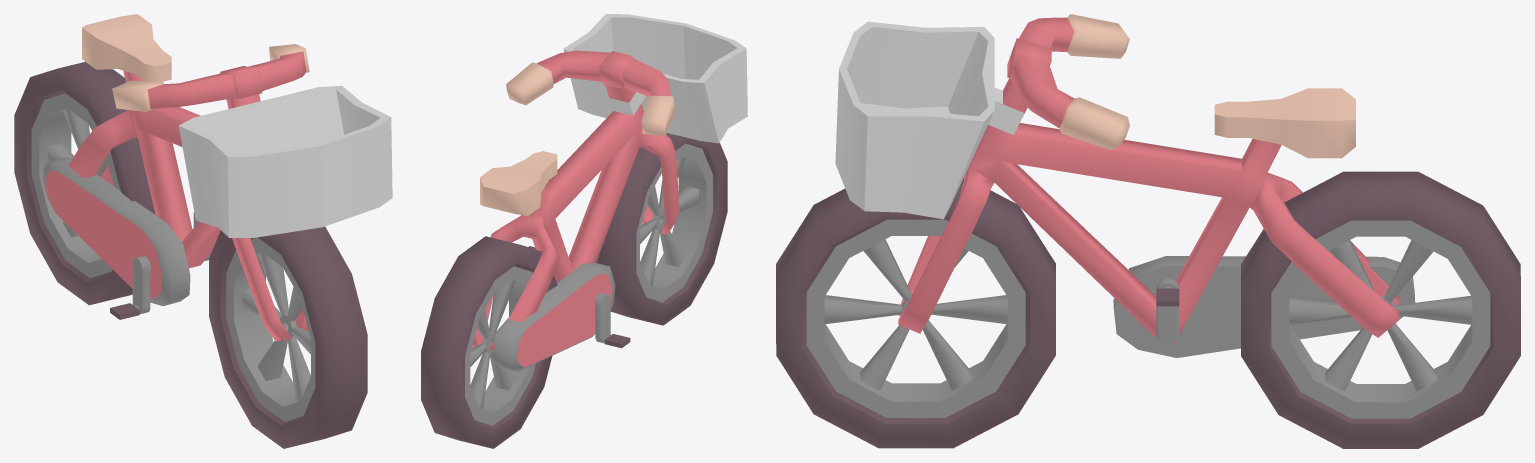
Rendered from low-poly_bike.glb.
3 views of the same model, side by side, from view 1: azimuth 30°, elevation 25°; view 2: azimuth 150°, elevation 25°; view 3: azimuth 270°, elevation 25° (orthographic). The views are drawn at different scales.
Visible parts, largest first — view 1: Frame, Wheel front, Wheel back, Stuur, Pedals; view 2: Frame, Wheel back, Wheel front, Stuur, Pedals; view 3: Frame, Wheel back, Wheel front, Stuur, Pedals.
Part boxes in pixels (left/top/right/bottom): Frame: left=42, top=14, right=392, bottom=341; Wheel front: left=209, top=226, right=367, bottom=448; Wheel back: left=14, top=61, right=155, bottom=305; Stuur: left=112, top=44, right=309, bottom=111; Pedals: left=110, top=212, right=210, bottom=319; Frame: left=472, top=14, right=747, bottom=371; Wheel back: left=421, top=236, right=557, bottom=448; Wheel front: left=596, top=133, right=727, bottom=325; Stuur: left=506, top=50, right=676, bottom=135; Pedals: left=528, top=246, right=630, bottom=348; Frame: left=835, top=21, right=1415, bottom=357; Wheel back: left=1241, top=171, right=1520, bottom=448; Wheel front: left=776, top=177, right=1055, bottom=448; Stuur: left=1007, top=14, right=1129, bottom=150; Pedals: left=1156, top=279, right=1179, bottom=344.
Size of the model in its own units: 0.599 by 1.03 by 1.77.
